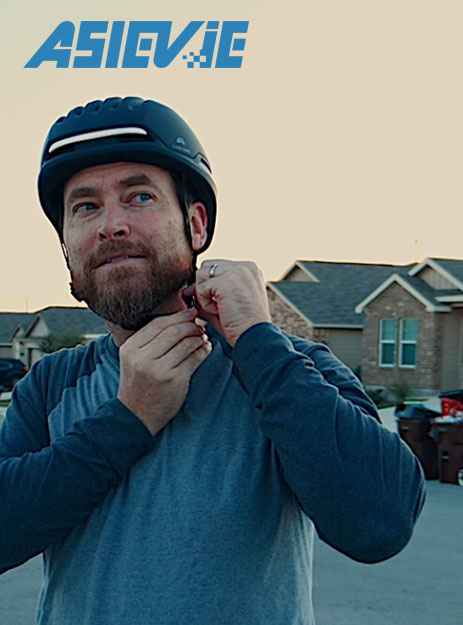helmets: (31, 90, 219, 246)
